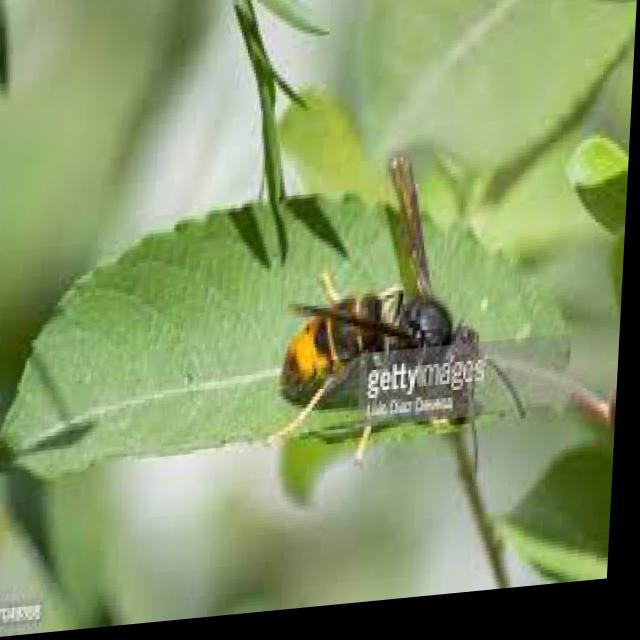Vespa Velutina: (273, 138, 545, 506)
